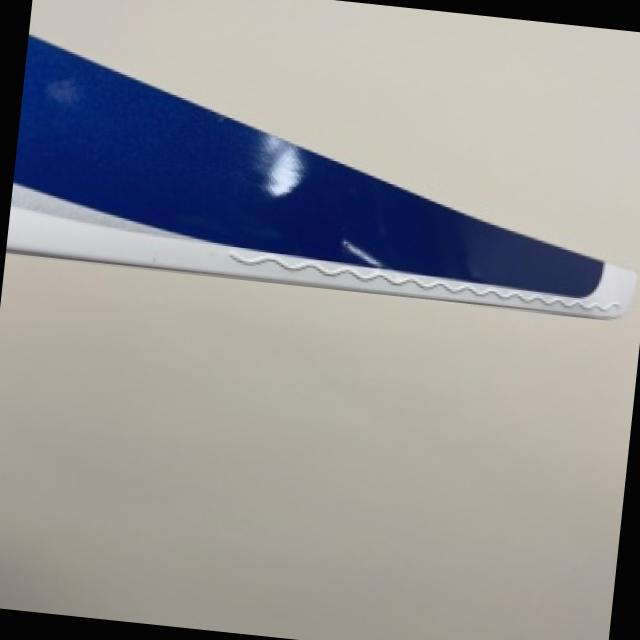healthy: (6, 32, 634, 316)
